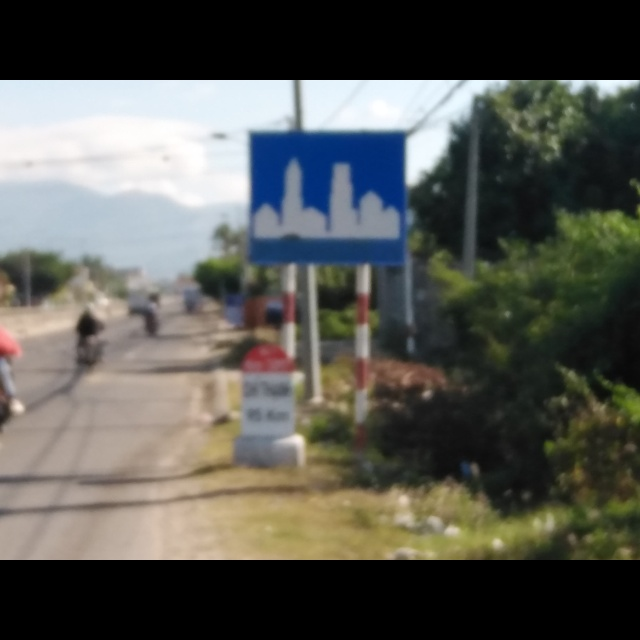Khu đông dân cư: (241, 124, 408, 272)
